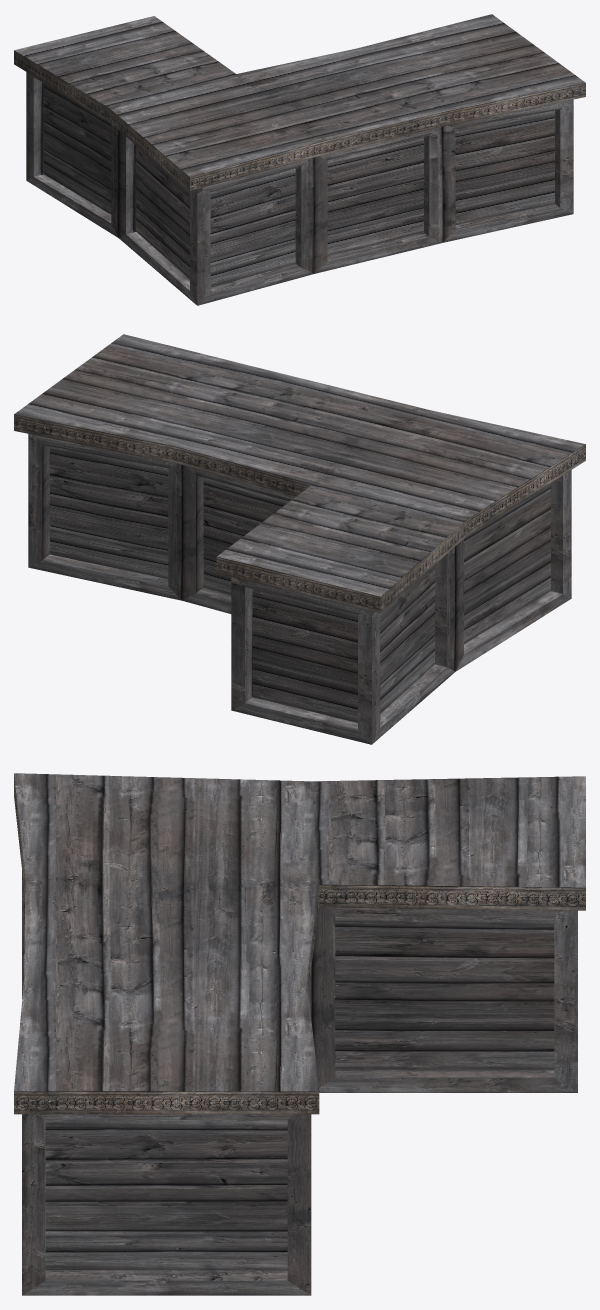
Rendered from tavern_bar.dae.
The picture shows the model from 3 angles, top to bottom: view 1: azimuth 30°, elevation 25°; view 2: azimuth 150°, elevation 25°; view 3: azimuth 270°, elevation 25°; orthographic projection. The views are drawn at different scales.
Parts seen in each view (by area): view 1: Default_Layer; view 2: Default_Layer; view 3: Default_Layer.
Boxes of the visible parts, x1,y1,x2,y2 form: Default_Layer: [14, 14, 585, 305]; Default_Layer: [14, 334, 585, 744]; Default_Layer: [14, 773, 585, 1295].
Size of the model in its own units: 8.26 by 2.65 by 6.36.
